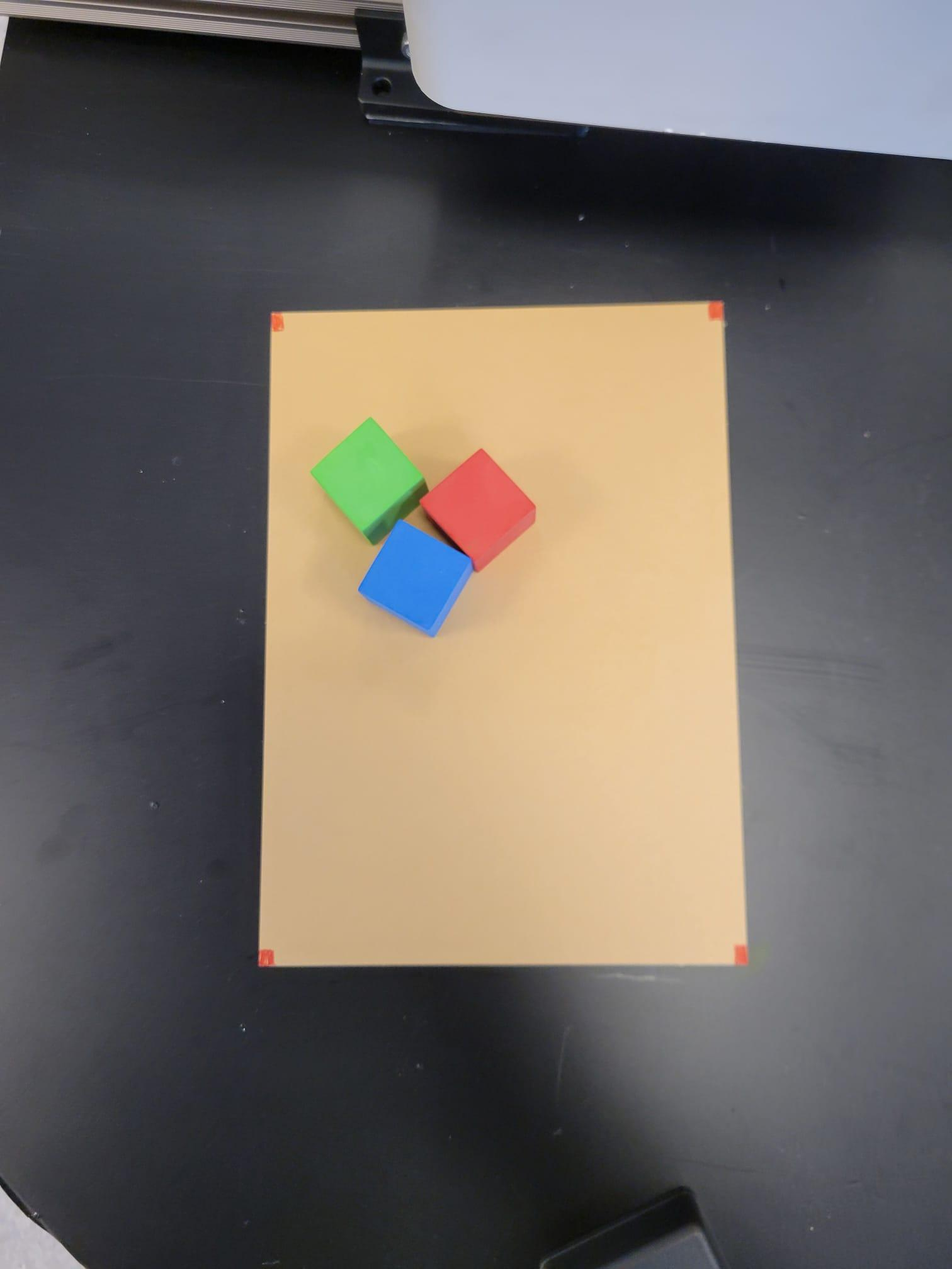cube: (422, 445, 548, 571), (310, 414, 425, 543), (362, 521, 469, 648)
